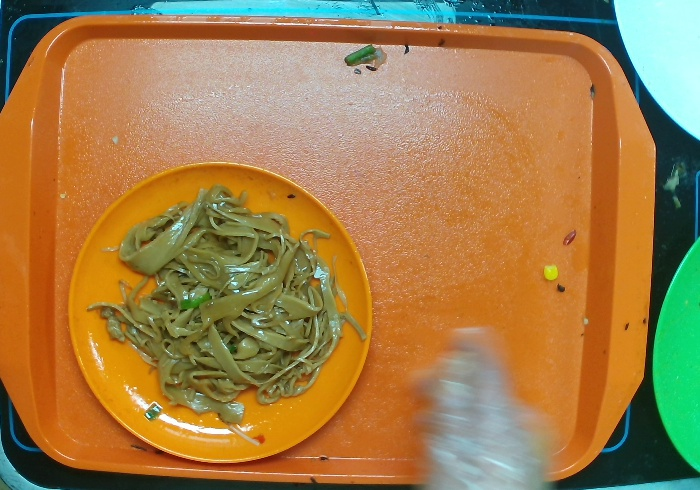HZYJPL-Ju_Huang_Yuan_Pan: (53, 147, 381, 468)
